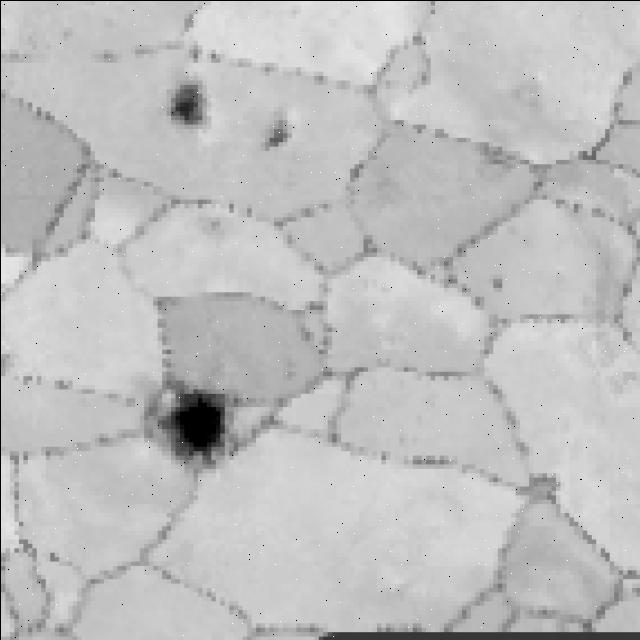good_void: (133, 351, 269, 497), (473, 127, 529, 184), (166, 77, 219, 130), (512, 465, 570, 512), (258, 112, 289, 149), (483, 267, 512, 301)
